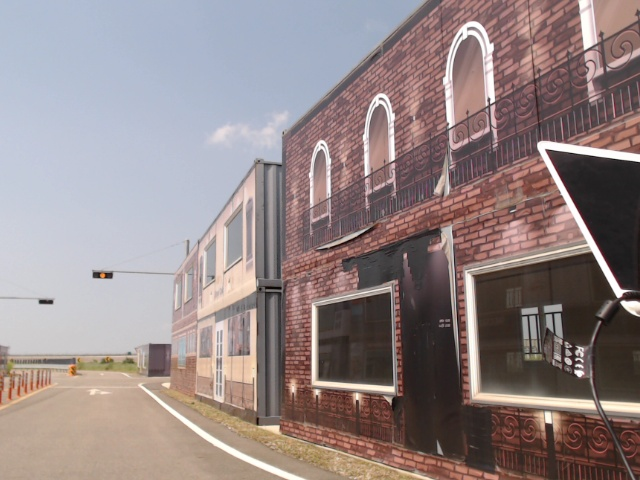orange_3: (90, 270, 112, 279)
